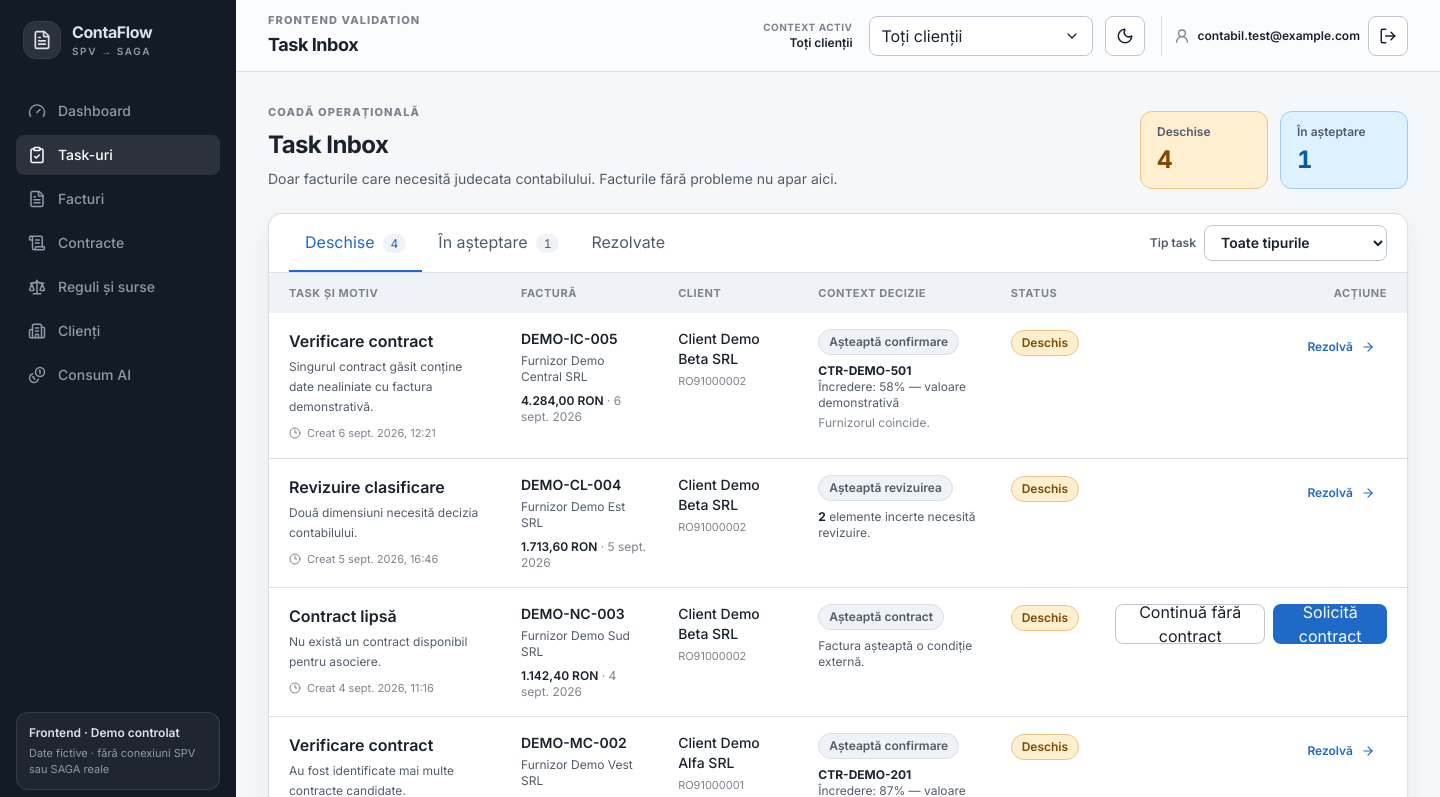
Test: Task Inbox › filters tasks by type
This screenshot has width=1440, height=797.
Step 1. Select "Revizuire clasificare" in the dropdown named "Filtrează după tipul task-ului" → (1296, 242), box [1204,224,1387,260]
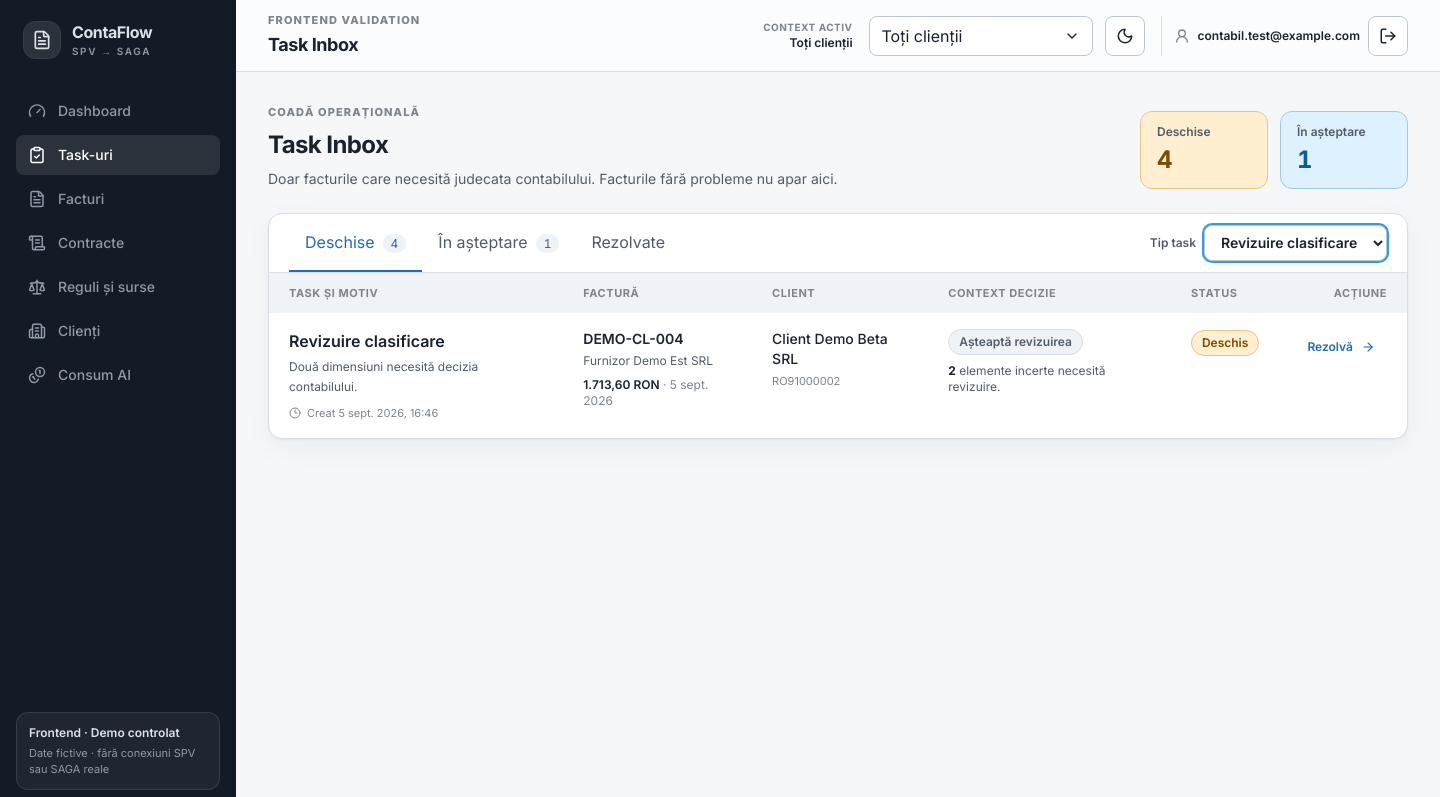
Check: the text "DEMO-CL-004" is shown, box [583,330,684,347]
Check: the text "DEMO-MC-002" is gone
